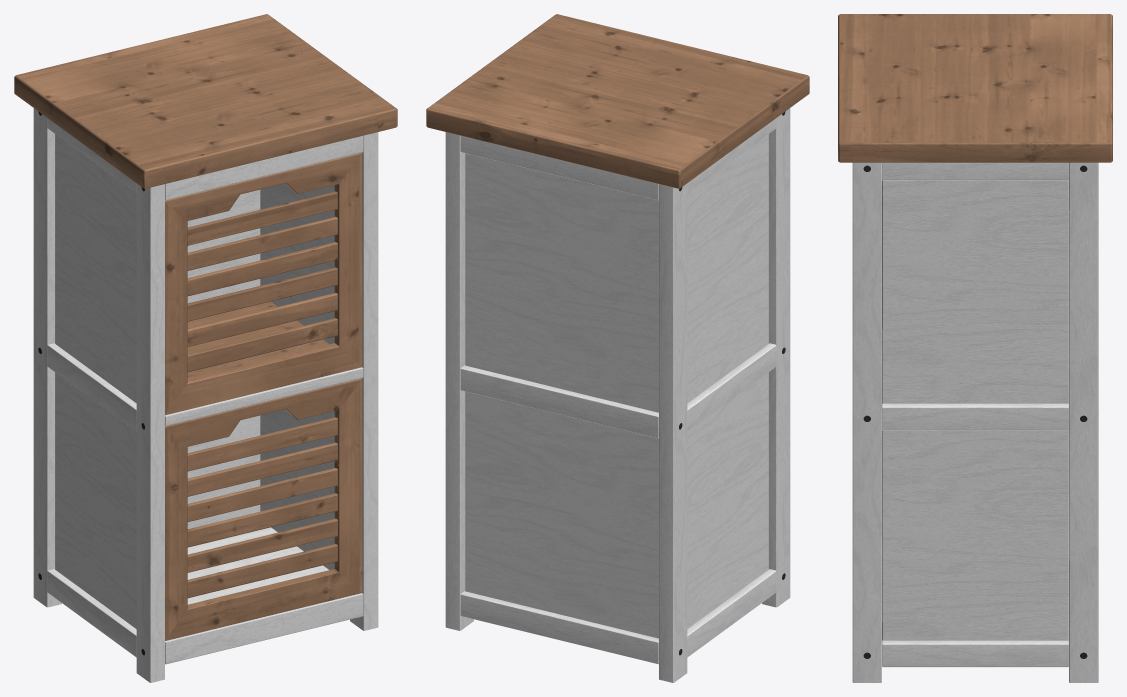
File: storagebed2.gltf
3 renders of one model, left to right at view 1: azimuth 30°, elevation 25°; view 2: azimuth 150°, elevation 25°; view 3: azimuth 270°, elevation 25°, orthographic. The views are drawn at different scales.
Visible parts, largest first — view 1: SM_Storage38; view 2: SM_Storage38; view 3: SM_Storage38.
Boxes of the visible parts, bbox=[...] form: SM_Storage38: bbox=[14, 14, 397, 682]; SM_Storage38: bbox=[426, 14, 809, 682]; SM_Storage38: bbox=[838, 14, 1112, 682].
Bounding box in the file's own units: 0.3613 × 0.7058 × 0.3216.
Materials: 3 (3 with a texture image).
